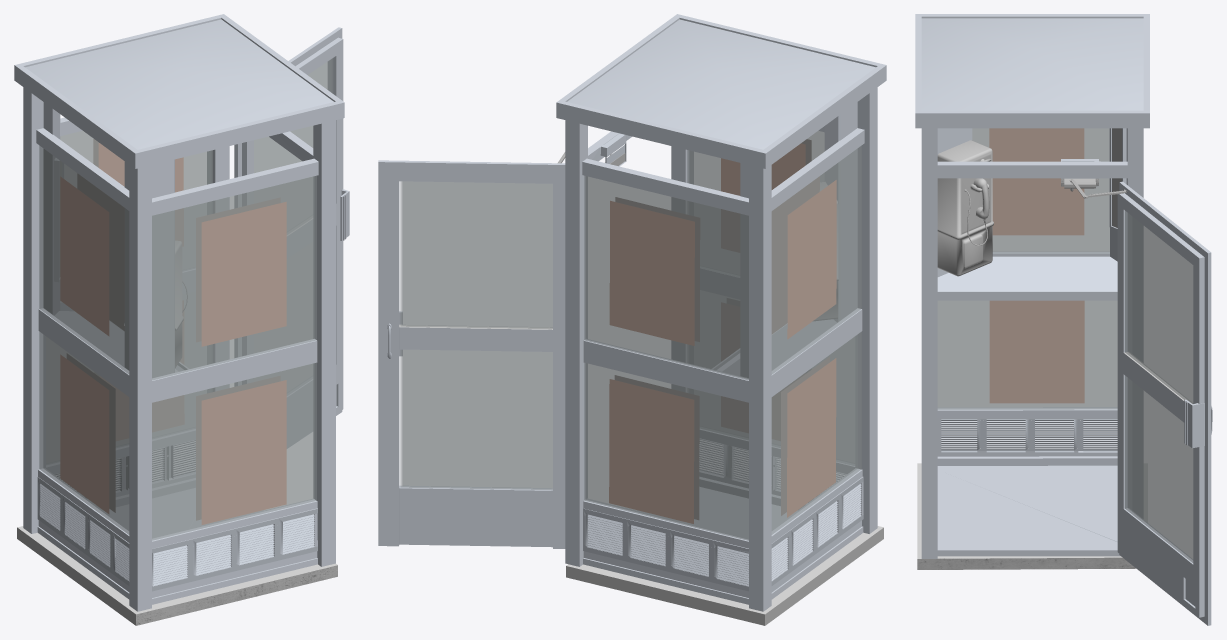
File: Cabina.fbx
3 views of the same model, side by side, from view 1: azimuth 30°, elevation 25°; view 2: azimuth 150°, elevation 25°; view 3: azimuth 270°, elevation 25° (orthographic). The views are drawn at different scales.
Visible parts, largest first — view 1: _G-Object.021 (Loose Mesh), G-Object.007, G-Object.073, G-Object.074, _G-Object.015 (Loose Mesh), G-Object.002, G-Object.019, _G-Object.001 (Loose Mesh), _G-Object.077 (Loose Mesh), G-Object.080, G-Object.083, G-Object.081 (+18 smaller); view 2: _G-Object.021 (Loose Mesh), G-Object.007, G-Object.002, _G-Object.015 (Loose Mesh), G-Object.019, G-Object.074, G-Object.073, _G-Object.001 (Loose Mesh), G-Object.079, _G-Object.077 (Loose Mesh), G-Object.022, G-Object.083 (+12 smaller); view 3: _G-Object.021 (Loose Mesh), G-Object.002, _G-Object.015 (Loose Mesh), G-Object.007, G-Object.074, _G-Object.078 (Loose Mesh), G-Object.082, _G-Object.001 (Loose Mesh), G-Object.024, G-Object.069, G-Object.070, G-Object.035 (+6 smaller).
Part boxes in pixels (<box>): _G-Object.021 (Loose Mesh): <box>14,14,344,611</box>; G-Object.007: <box>60,139,286,524</box>; G-Object.073: <box>152,175,316,540</box>; G-Object.074: <box>39,145,129,534</box>; _G-Object.015 (Loose Mesh): <box>234,27,343,448</box>; G-Object.002: <box>254,58,333,393</box>; G-Object.019: <box>46,130,212,463</box>; _G-Object.001 (Loose Mesh): <box>17,526,337,625</box>; _G-Object.077 (Loose Mesh): <box>43,102,160,377</box>; G-Object.080: <box>152,339,317,402</box>; G-Object.083: <box>124,159,174,375</box>; G-Object.081: <box>38,308,129,396</box>; _G-Object.021 (Loose Mesh): <box>556,14,886,611</box>; G-Object.007: <box>609,139,836,523</box>; G-Object.002: <box>400,181,552,490</box>; _G-Object.015 (Loose Mesh): <box>378,160,565,548</box>; G-Object.019: <box>584,176,748,540</box>; G-Object.074: <box>771,146,861,534</box>; G-Object.073: <box>687,130,854,463</box>; _G-Object.001 (Loose Mesh): <box>566,526,883,625</box>; G-Object.079: <box>583,339,748,402</box>; _G-Object.077 (Loose Mesh): <box>740,102,857,377</box>; G-Object.022: <box>582,158,748,215</box>; G-Object.083: <box>824,109,848,322</box>; _G-Object.021 (Loose Mesh): <box>915,14,1149,558</box>; G-Object.002: <box>1125,211,1193,562</box>; _G-Object.015 (Loose Mesh): <box>1117,181,1211,625</box>; G-Object.007: <box>989,128,1084,403</box>; G-Object.074: <box>937,128,1117,409</box>; _G-Object.078 (Loose Mesh): <box>937,256,1117,300</box>; G-Object.082: <box>937,140,993,276</box>; _G-Object.001 (Loose Mesh): <box>917,463,1147,569</box>; G-Object.024: <box>937,159,1127,186</box>; G-Object.069: <box>937,407,1117,417</box>; G-Object.070: <box>937,456,1117,465</box>; G-Object.035: <box>937,417,1117,456</box>.
Bounding box in the file's own units: 196 × 256 × 145.
